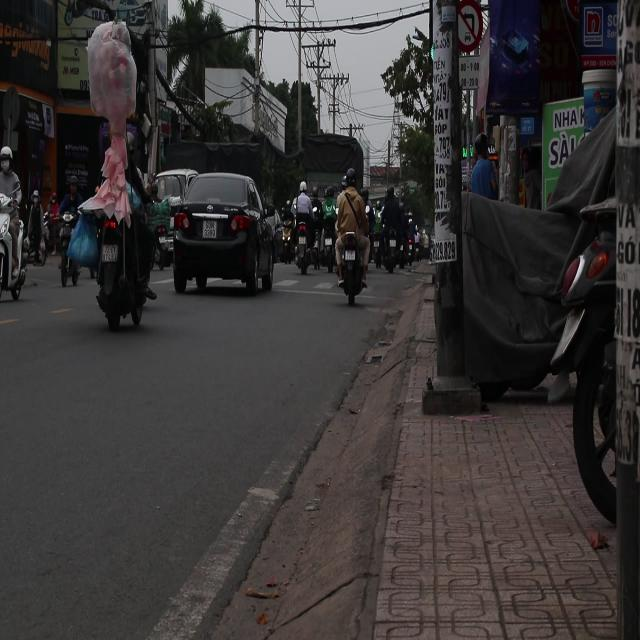car: (169, 172, 279, 297)
motorbike: (84, 168, 160, 330), (336, 230, 370, 308), (57, 212, 81, 288), (43, 200, 65, 258), (294, 218, 312, 272)
